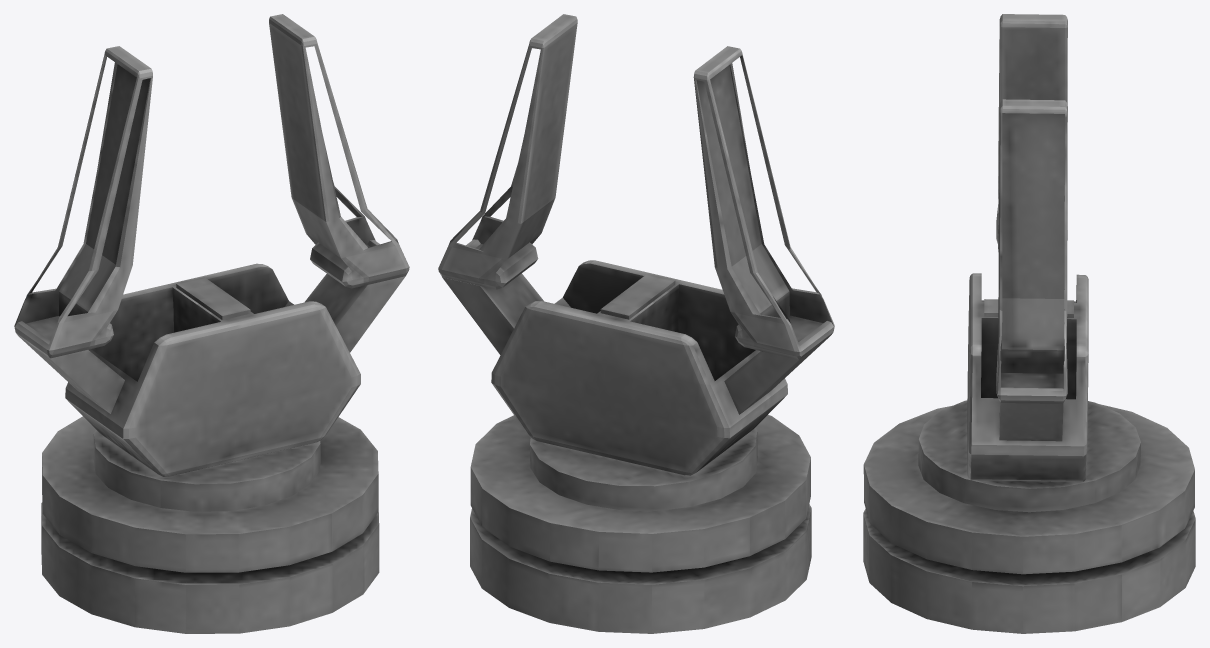
The model's file is Mechanical Claw.fbx.
The picture shows the model from 3 angles, left to right: view 1: azimuth 30°, elevation 25°; view 2: azimuth 150°, elevation 25°; view 3: azimuth 270°, elevation 25°; orthographic projection. The views are drawn at different scales.
Visible parts, largest first — view 1: Claw.004, Claw.001, Claw.003, Claw.002, Claw; view 2: Claw.004, Claw.001, Claw.003, Claw.002, Claw; view 3: Claw.004, Claw.002, Claw.001, Claw, Claw.003.
Part boxes in pixels (x1,y1,x2,y2): Claw.004: (41, 416, 379, 633); Claw.001: (65, 263, 360, 476); Claw.003: (14, 46, 152, 413); Claw.002: (269, 14, 409, 352); Claw: (93, 430, 320, 511); Claw.004: (470, 414, 811, 633); Claw.001: (491, 260, 787, 475); Claw.003: (693, 46, 834, 414); Claw.002: (438, 14, 577, 354); Claw: (530, 427, 757, 510); Claw.004: (863, 404, 1195, 633); Claw.002: (996, 99, 1067, 441); Claw.001: (967, 273, 1088, 481); Claw: (918, 400, 1140, 512); Claw.003: (996, 14, 1067, 251).
Size of the model in its own units: 38.19 by 52.67 by 31.17.
